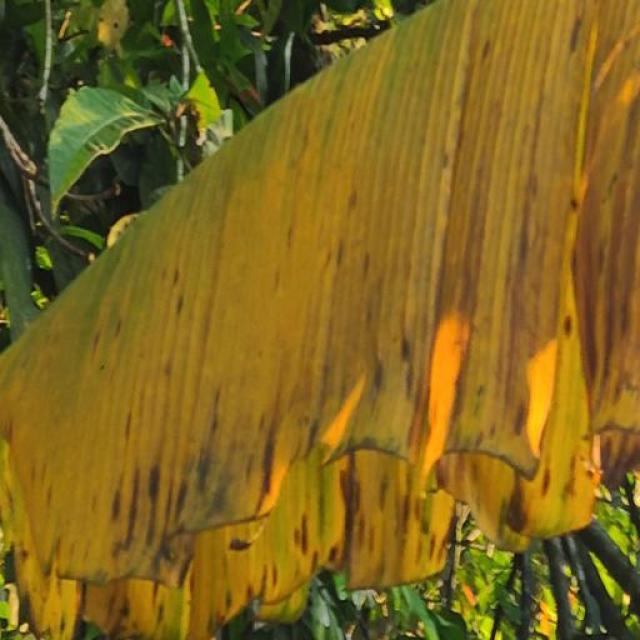Cordana: (0, 1, 636, 640)
